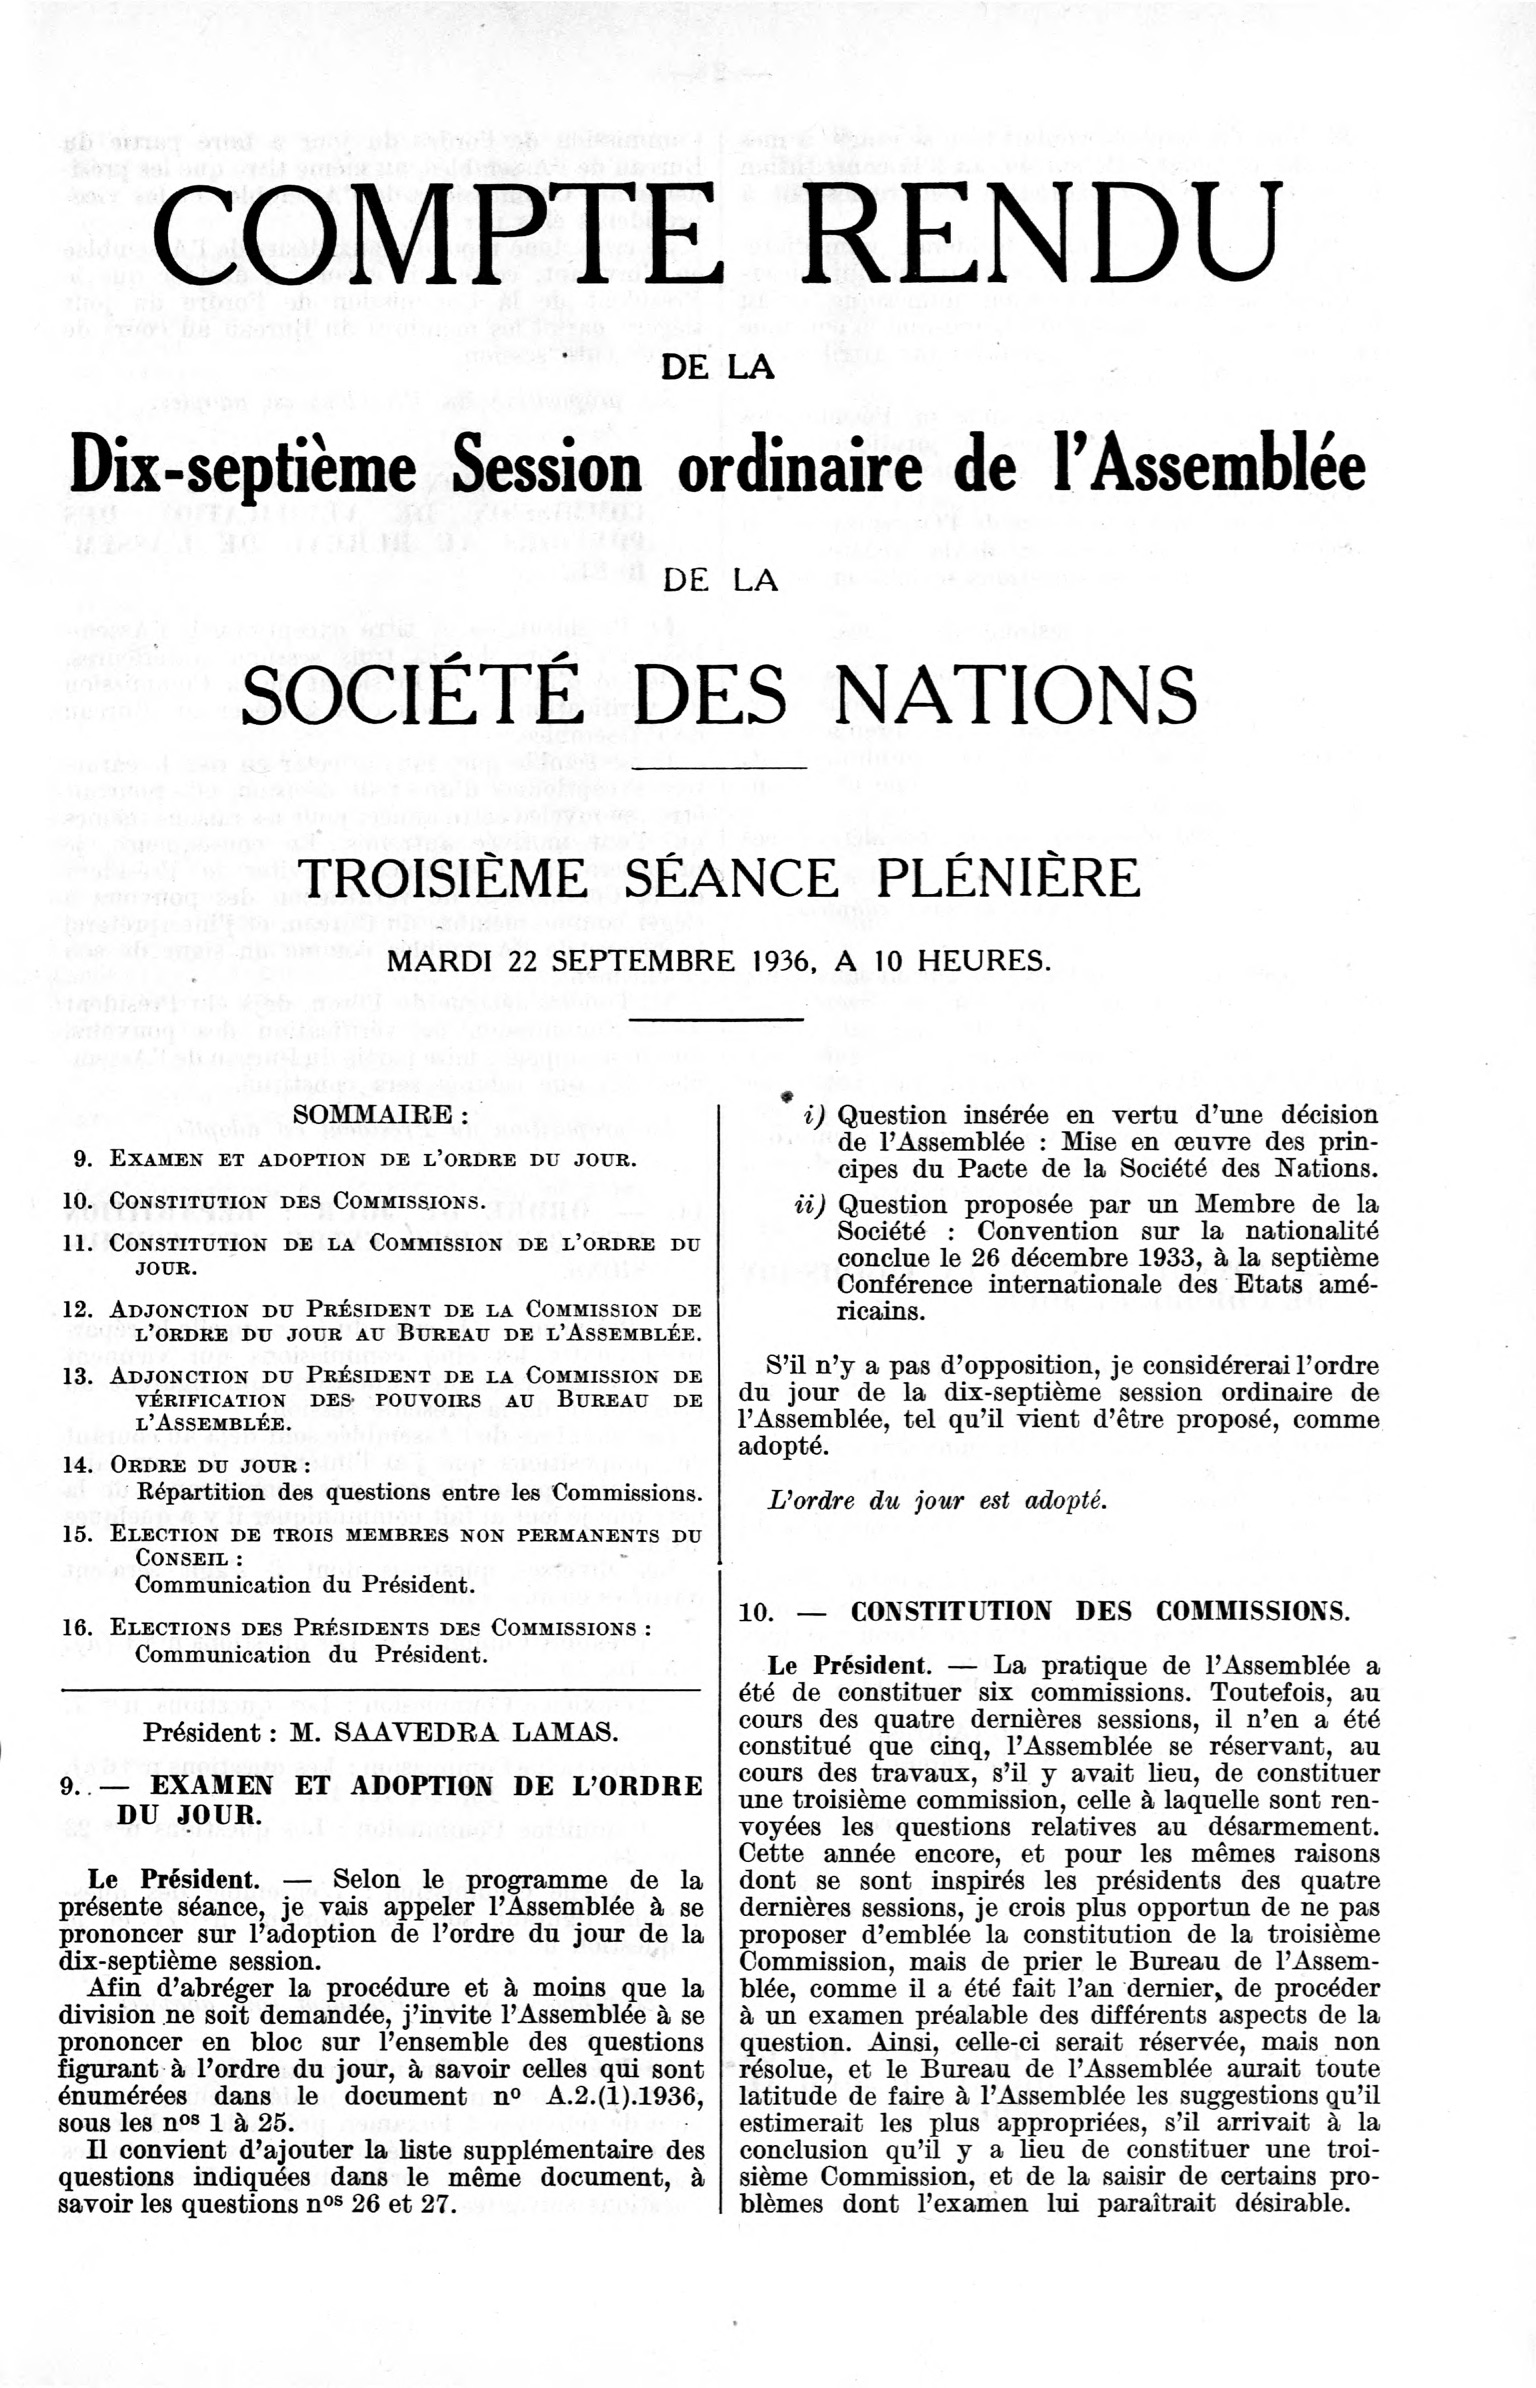MainZone-Head: (46, 133, 1406, 995), (50, 1763, 708, 1837), (730, 1586, 1358, 1633), (130, 1708, 633, 1752), (283, 1092, 475, 1133)
MainZone-ListItem: (766, 1186, 1388, 1331), (767, 1090, 1387, 1185), (52, 1517, 714, 1603), (51, 1358, 713, 1441), (51, 1446, 713, 1513), (53, 1608, 696, 1674), (52, 1290, 710, 1353), (54, 1224, 710, 1285), (58, 1138, 646, 1180), (55, 1182, 506, 1222)
MainZone-P: (731, 1646, 1389, 2222), (52, 1974, 712, 2134), (730, 1344, 1388, 1468), (52, 1861, 708, 1975), (51, 2136, 711, 2224), (753, 1479, 1117, 1524)
